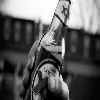beer: (27, 1, 75, 100)
